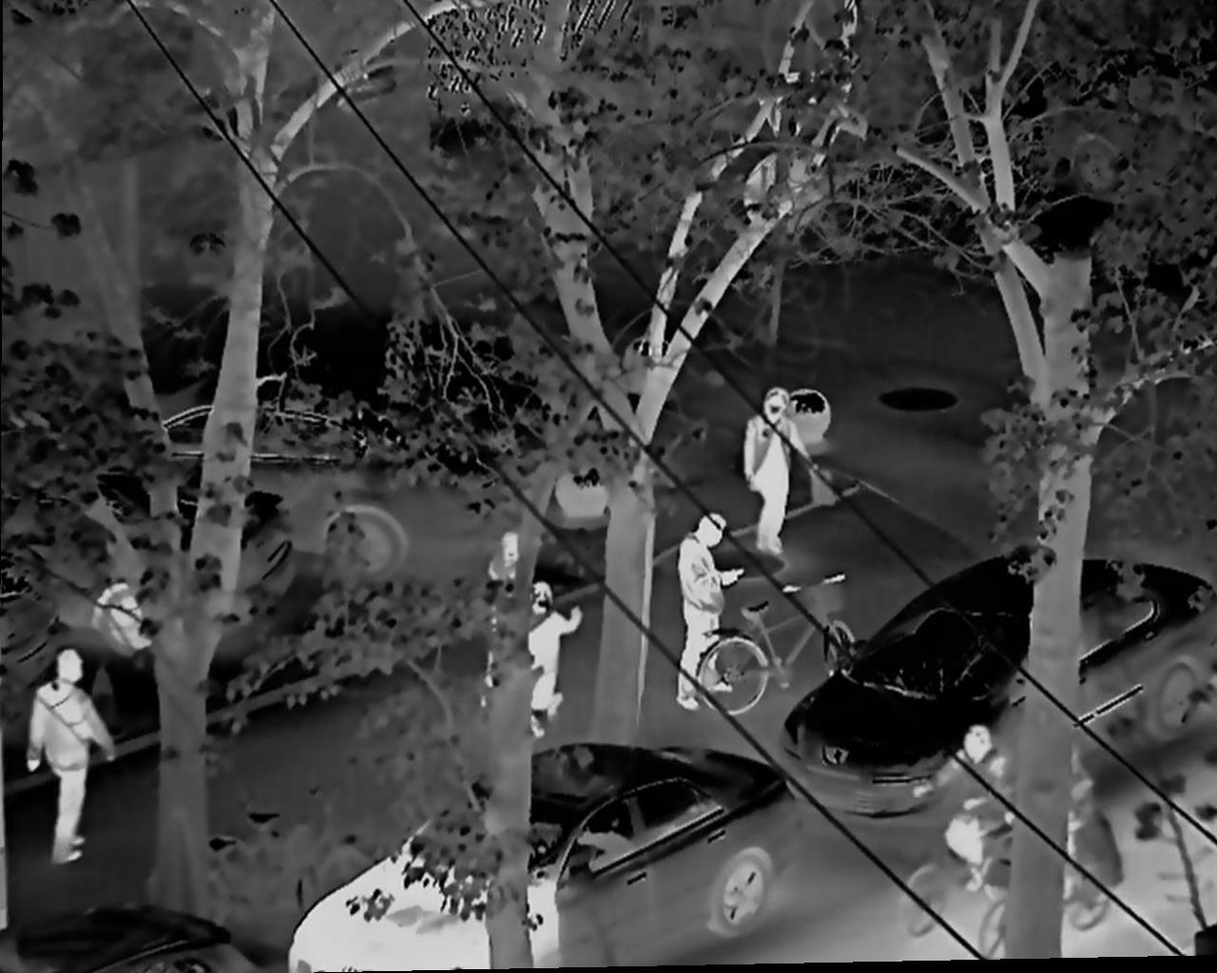person: (26, 645, 115, 867), (914, 719, 1009, 894), (676, 506, 746, 712), (740, 385, 808, 563), (528, 579, 584, 735)
